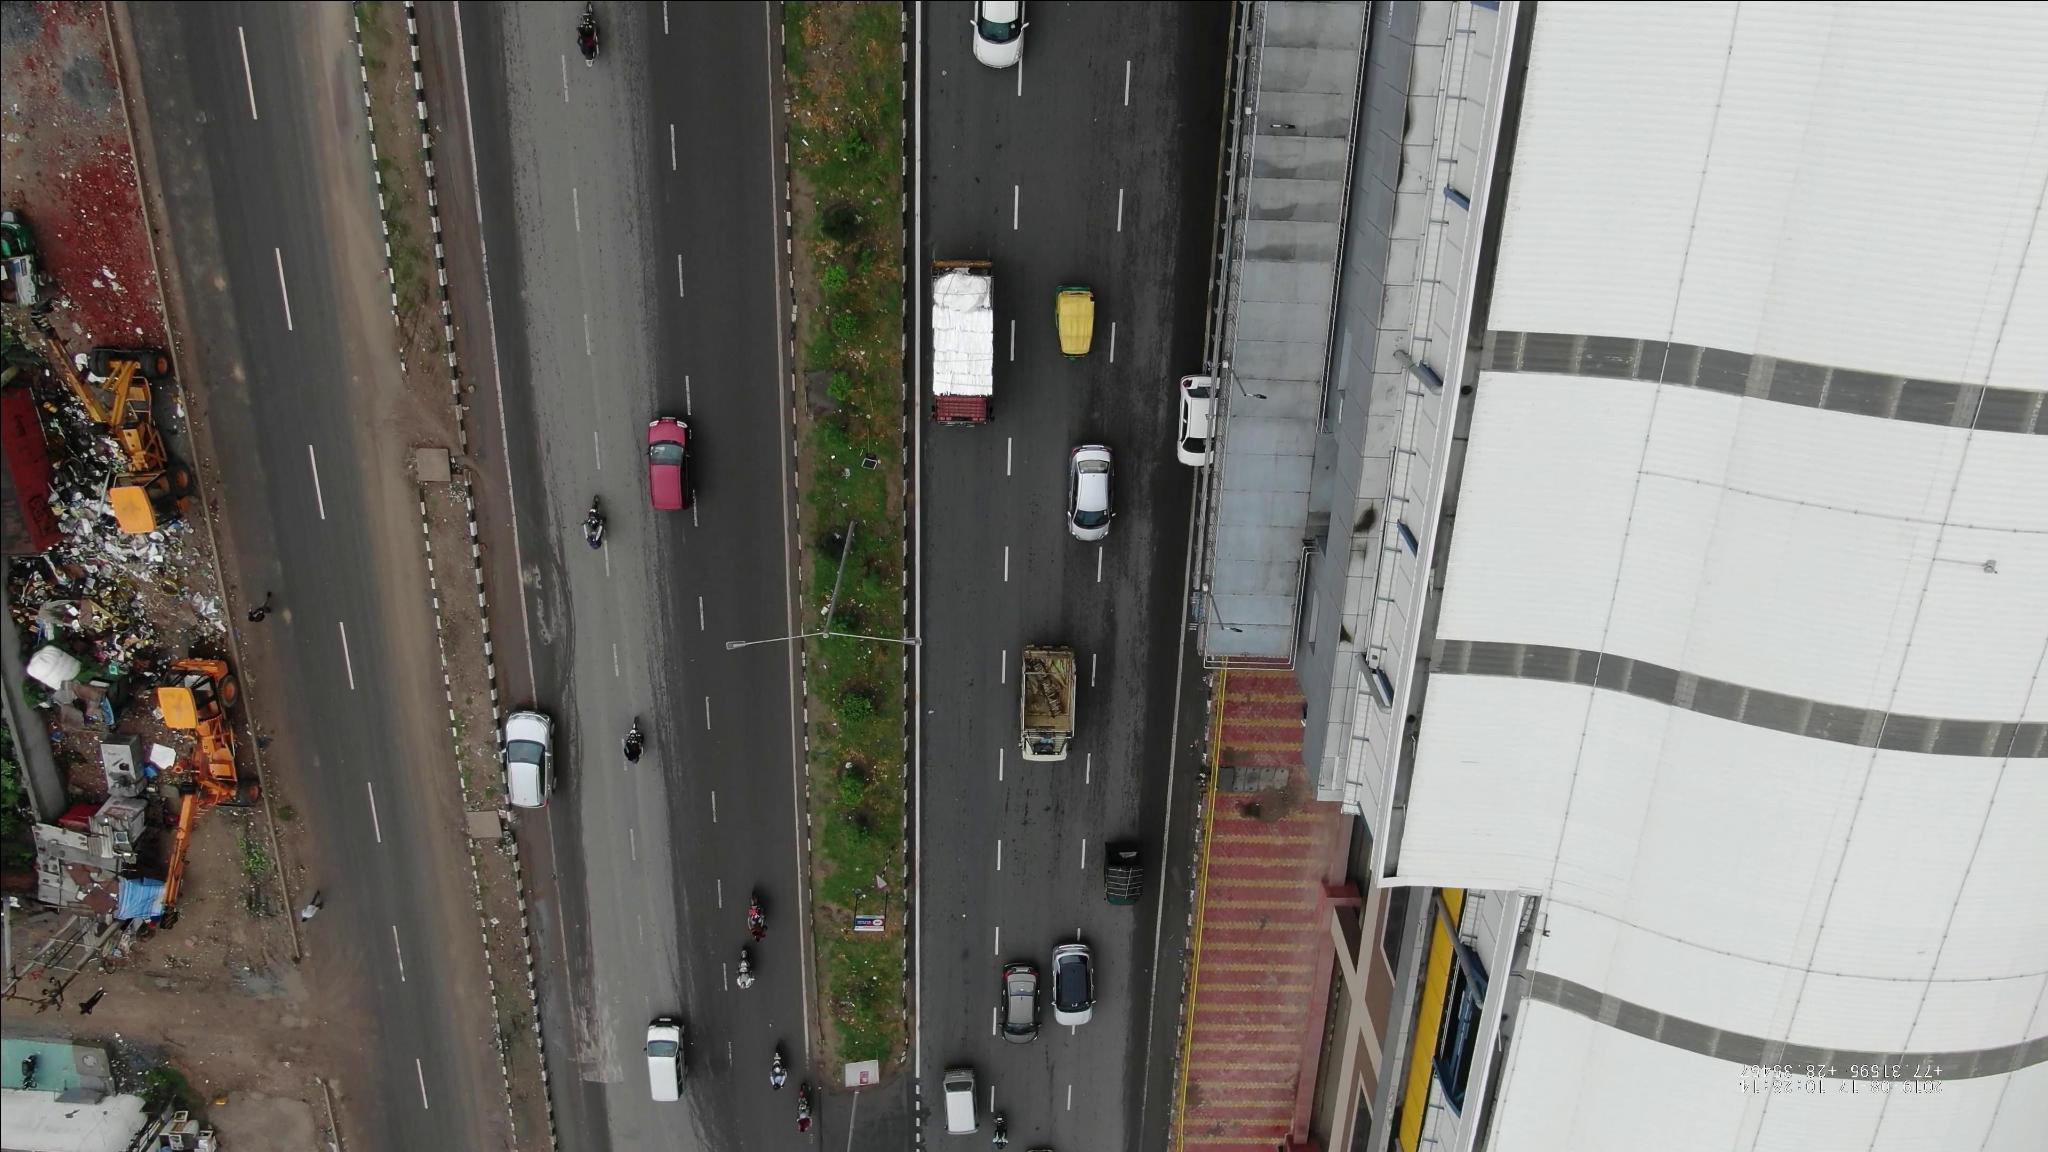Muddy_road: (307, 38, 381, 338), (390, 629, 464, 862), (423, 892, 497, 1111), (347, 376, 412, 580)
Potholes: (153, 35, 210, 205), (196, 239, 252, 402), (255, 997, 315, 1062)
Road_side_garbage: (27, 404, 210, 663)
